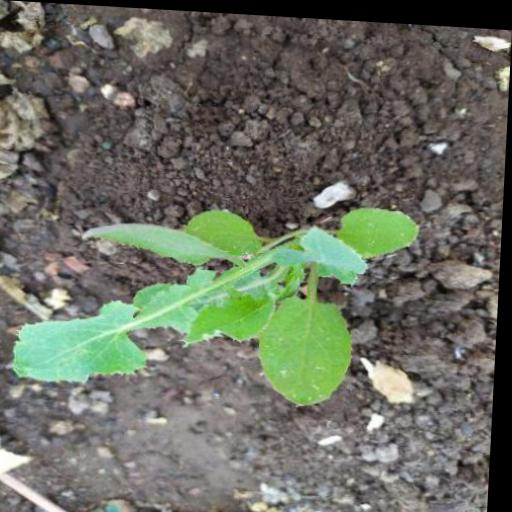weed: (11, 176, 425, 432)
